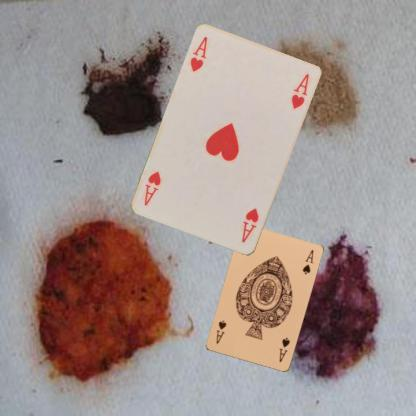Ah: (187, 34, 209, 73), (239, 206, 260, 244)
As: (277, 335, 291, 364)
